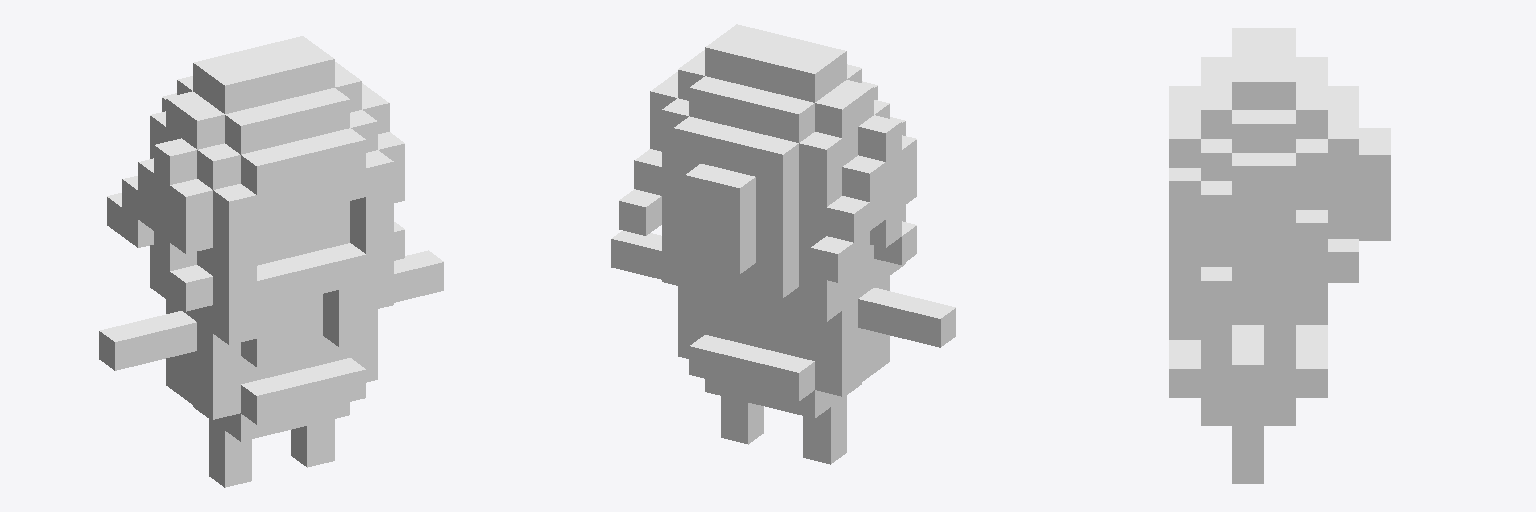
The model's file is vikingo.obj.
3 views of the same model, side by side, from view 1: azimuth 30°, elevation 25°; view 2: azimuth 150°, elevation 25°; view 3: azimuth 270°, elevation 25° (orthographic).
Visible parts, largest first — view 1: object 1; view 2: object 1; view 3: object 1.
Part boxes in pixels (bbox=[...]): object 1: bbox=[99, 36, 443, 487]; object 1: bbox=[611, 24, 955, 464]; object 1: bbox=[1169, 28, 1390, 483].
Bounding box in the file's own units: 1.2 × 1.4 × 0.7.